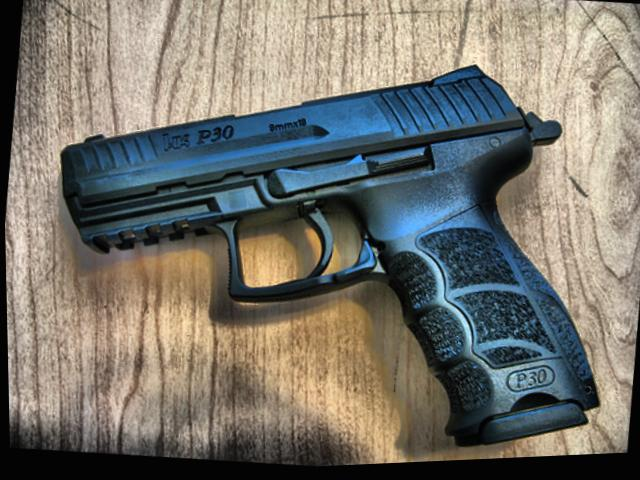pistol: (24, 21, 637, 475)
